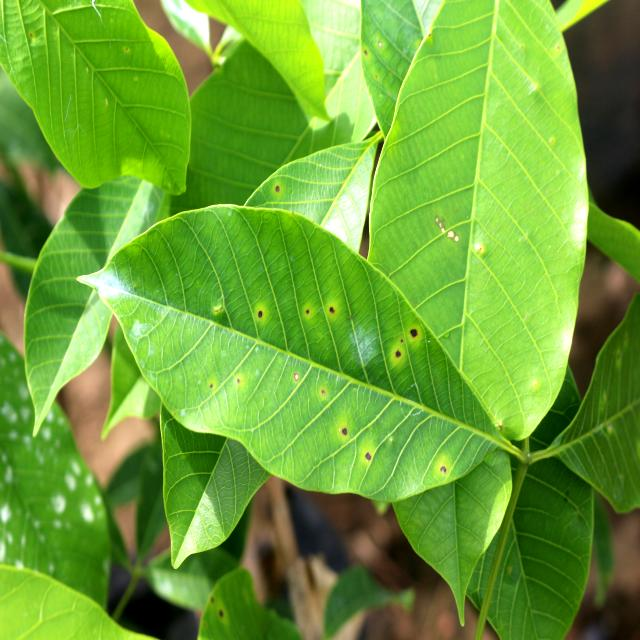Colletotrichum: (410, 329, 417, 337), (342, 428, 348, 436), (441, 467, 446, 472)
